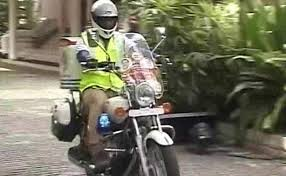helmet: (88, 1, 125, 39)
